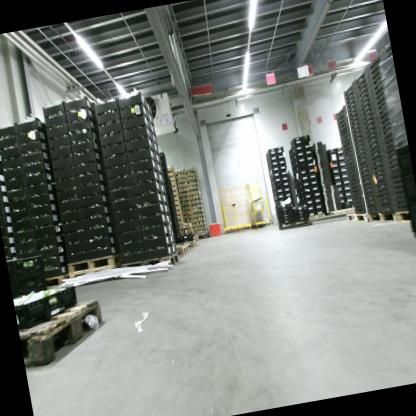pallet: (15, 295, 112, 371), (64, 250, 120, 276), (121, 251, 181, 275), (66, 262, 124, 286), (368, 205, 398, 229), (40, 270, 72, 290), (276, 216, 311, 233), (393, 204, 416, 229), (345, 207, 370, 227), (172, 241, 191, 261), (308, 210, 327, 222), (182, 239, 197, 250), (197, 231, 210, 241), (195, 234, 200, 241)
